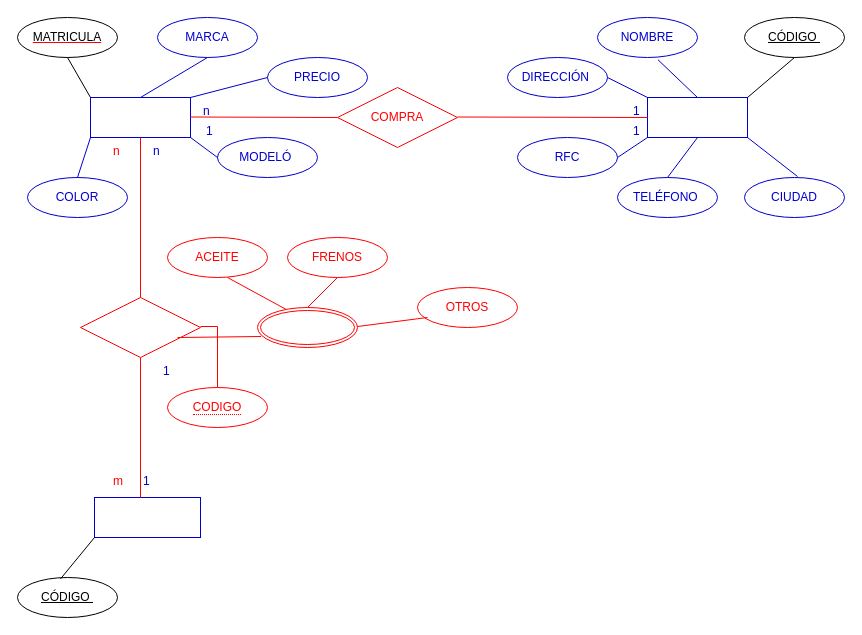
Some shapes in this 862 by 635 pixel diagram are drawn without their labels. The shapes that lost their labels are listed below. From the top down, each one's box as (x1, y1, x2, y2) in pixels, then its label:
(90, 96, 190, 138): AUTOMÓVILES
(646, 96, 748, 138): CLIENTES
(80, 296, 200, 358): REVISIÓN
(256, 306, 358, 348): CAMBIOS
(94, 496, 200, 538): CONCESIONARIO
